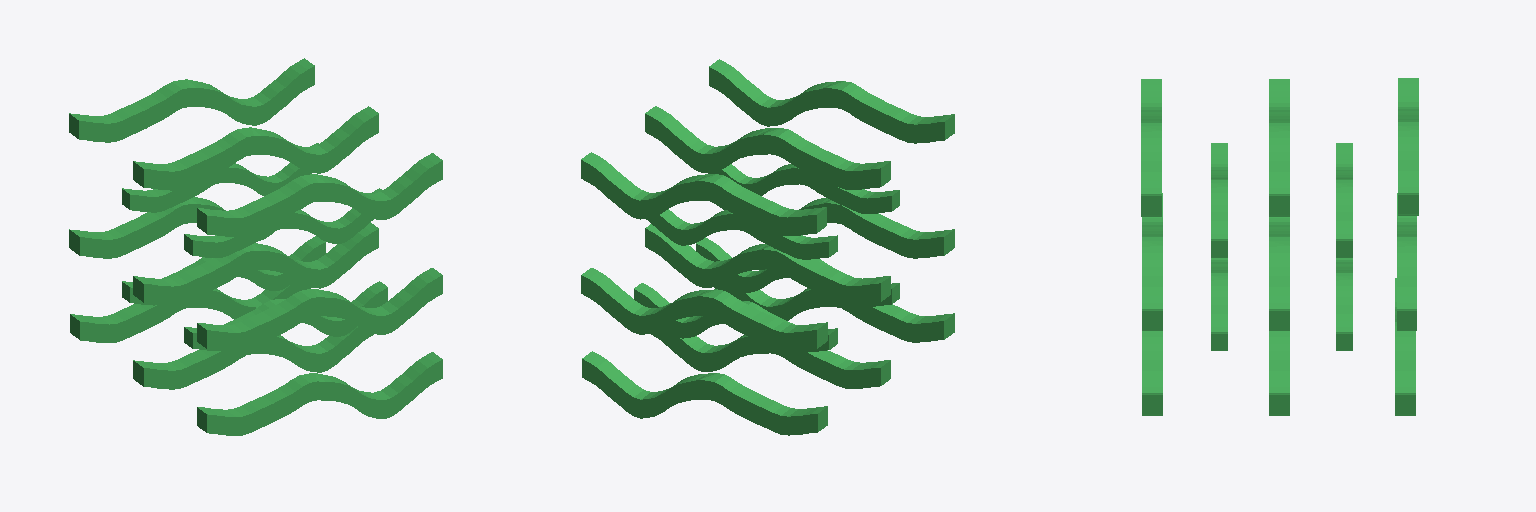
3 renders of one model, left to right at view 1: azimuth 30°, elevation 25°; view 2: azimuth 150°, elevation 25°; view 3: azimuth 270°, elevation 25°, orthographic.
Parts seen in each view (by area): view 1: 立方体.001; view 2: 立方体.001; view 3: 立方体.001.
Boxes of the visible parts, box(x1,y1,x2,y2) form: 立方体.001: box(69, 58, 442, 435); 立方体.001: box(581, 59, 954, 435); 立方体.001: box(1141, 78, 1418, 415).
Bounding box in the file's own units: 2.36 × 2.44 × 2.41.
1 materials, 1 textured.